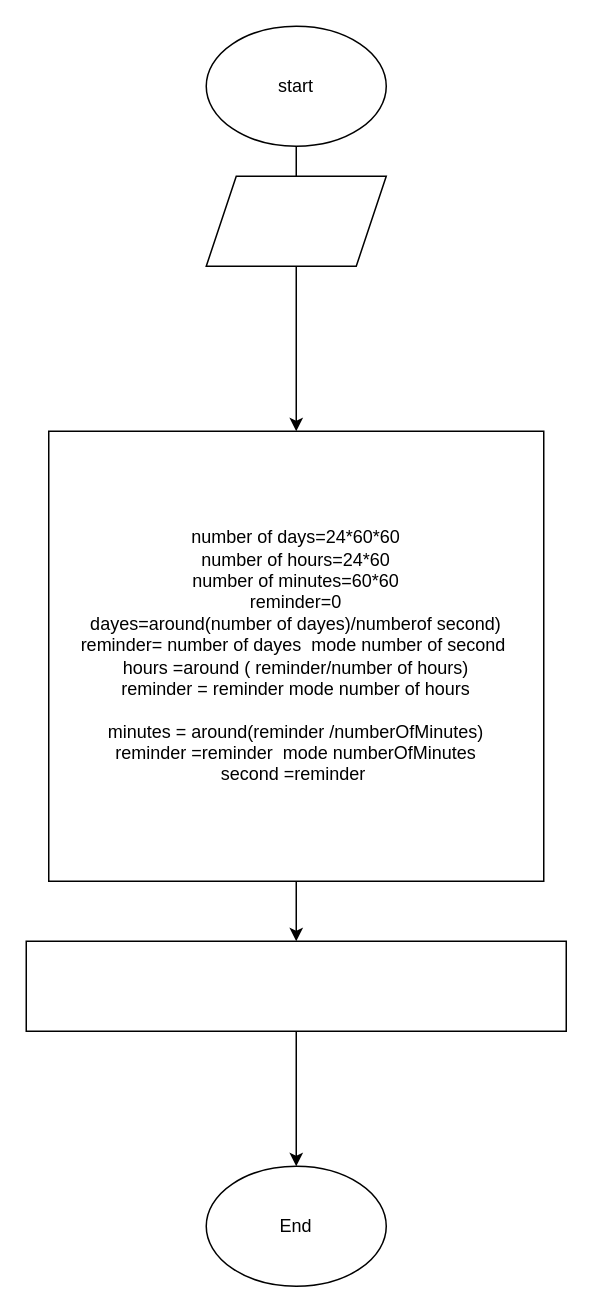
The diagram is 593 pixels wide and 1313 high, and some of its shapes have lost their labels. Each missing label, with the centre of its shape:
print(days+" :"+hours+" :"+ mintues +" :"+ second: (x=295, y=985)
read number of second: (x=295, y=220)
